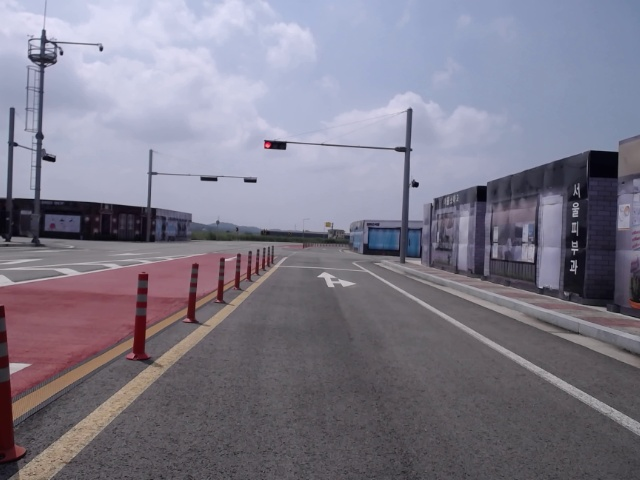red_3: (264, 141, 287, 150)
